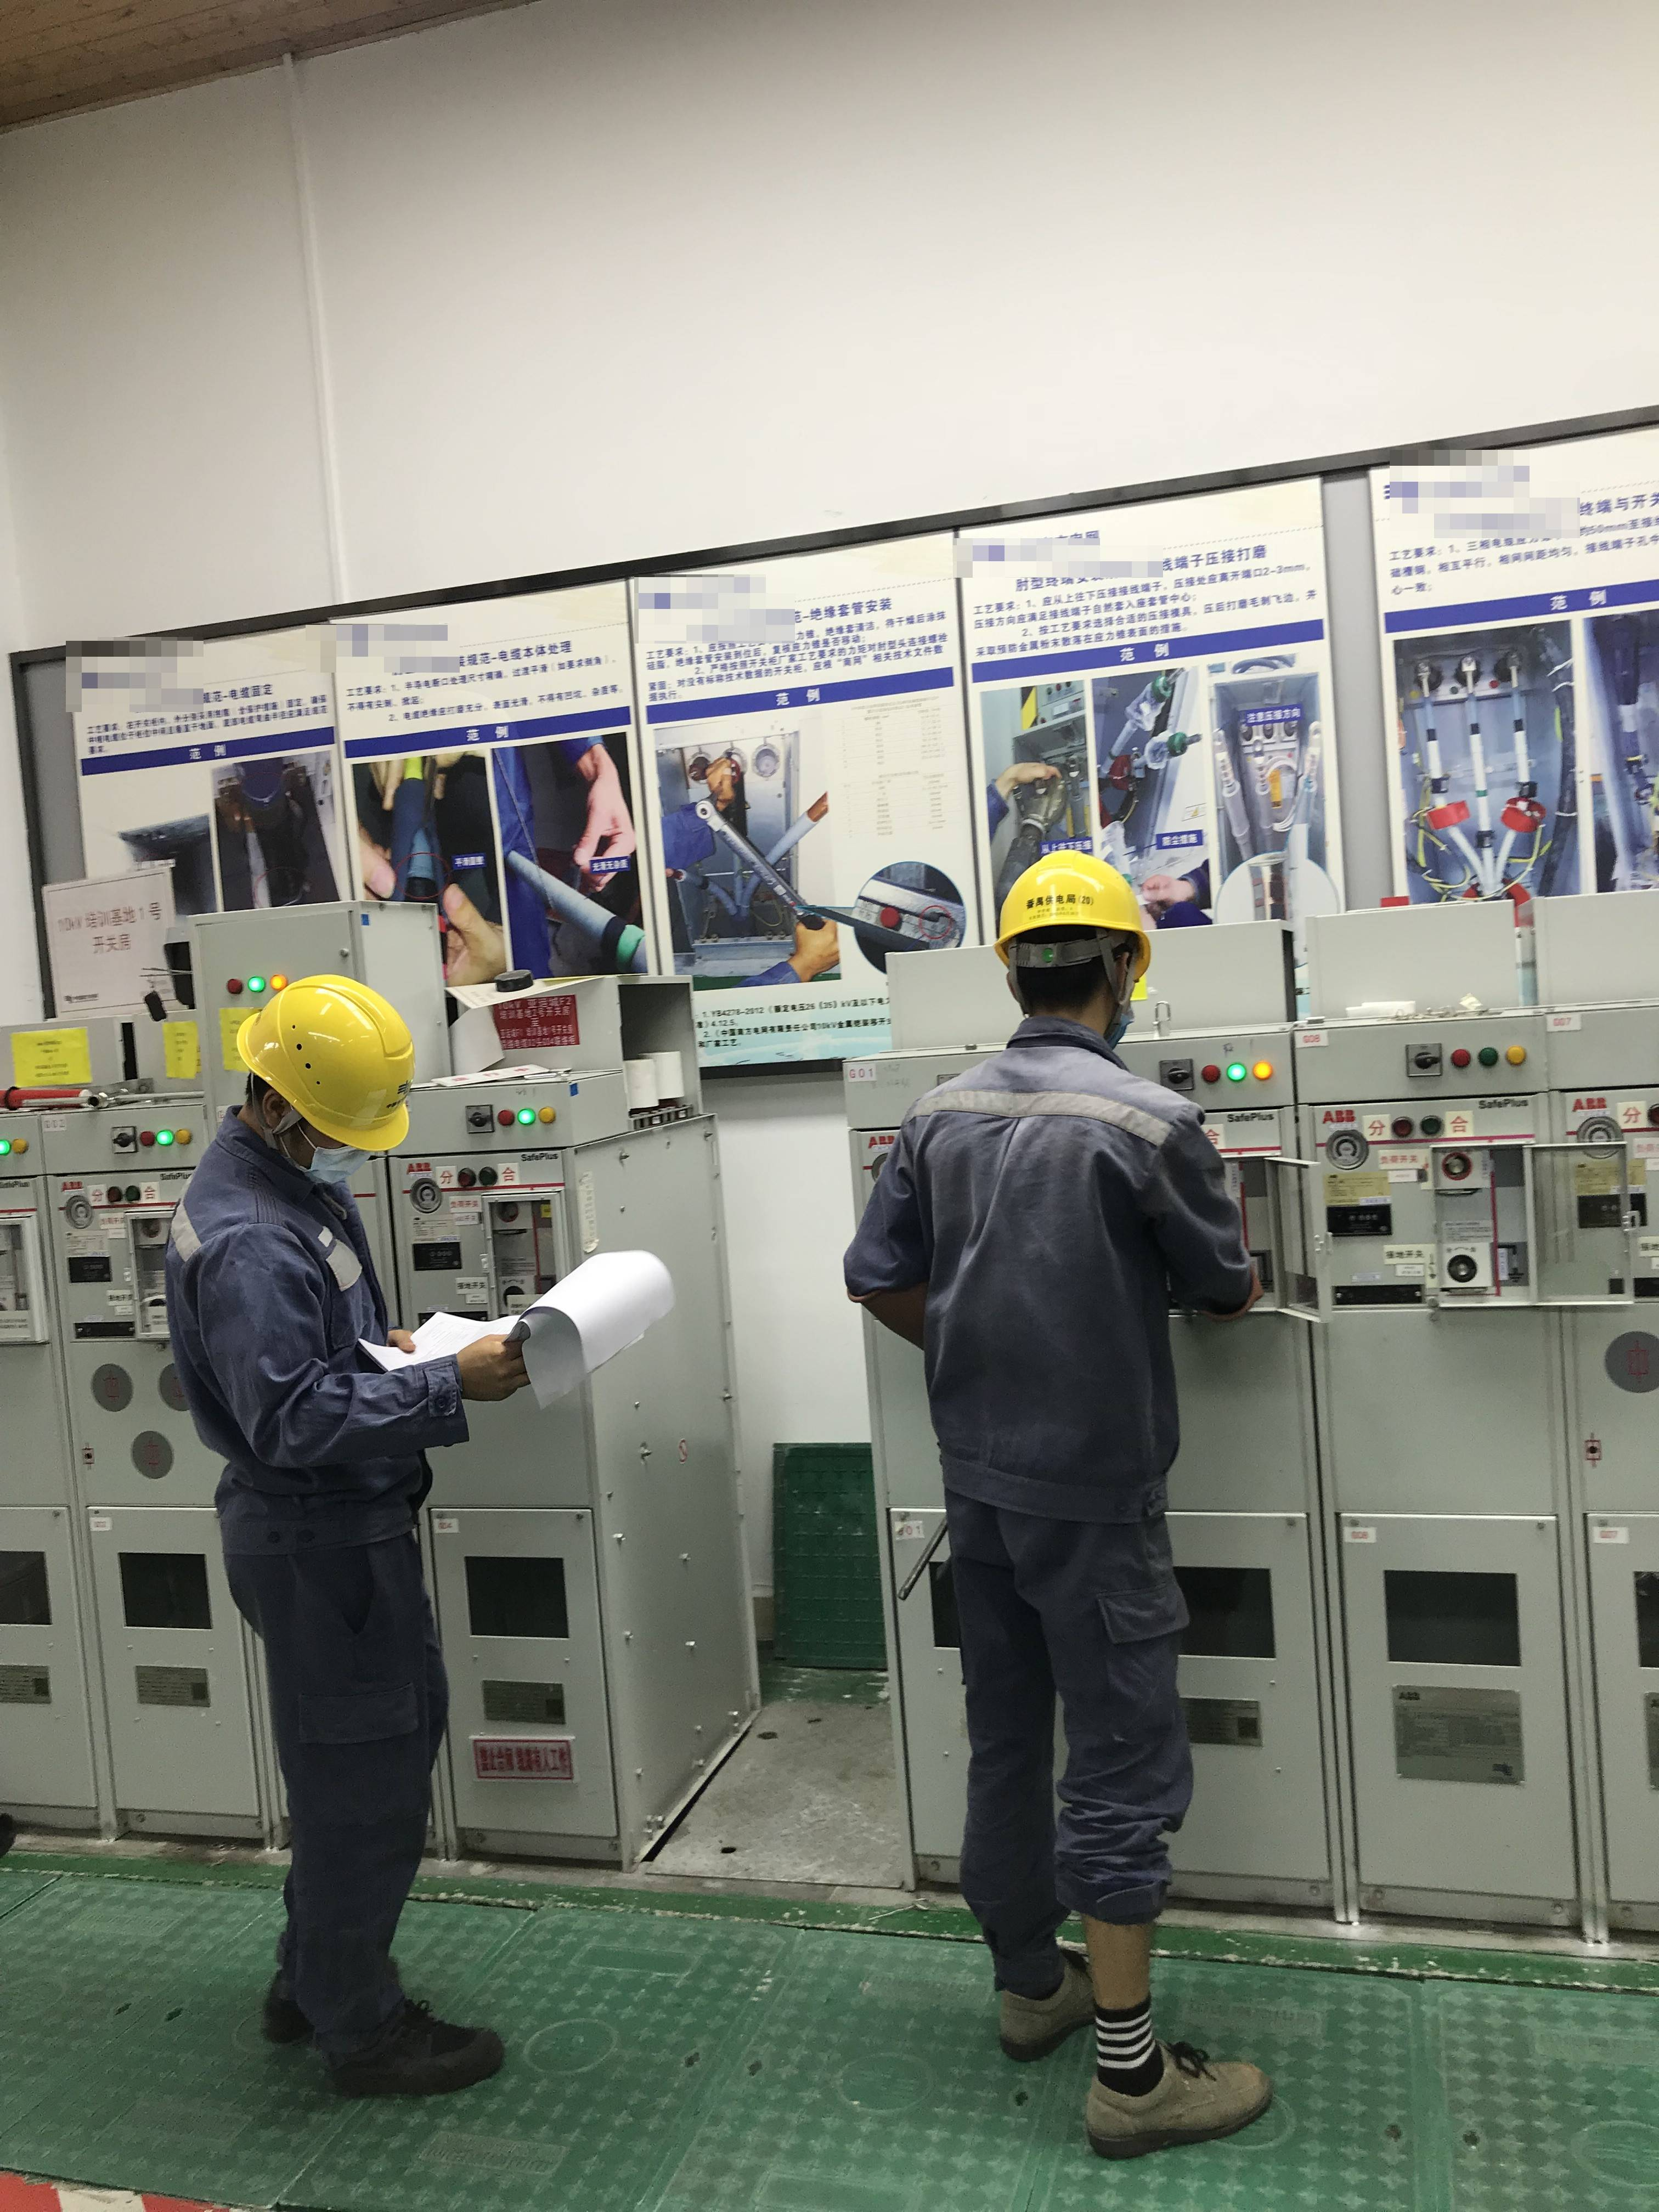downsuit: (946, 1480, 1195, 1989), (235, 1545, 457, 2054)
upsuit: (861, 1019, 1248, 1512), (160, 1115, 472, 1531)
wrongbottom: (1073, 1886, 1178, 2071)
